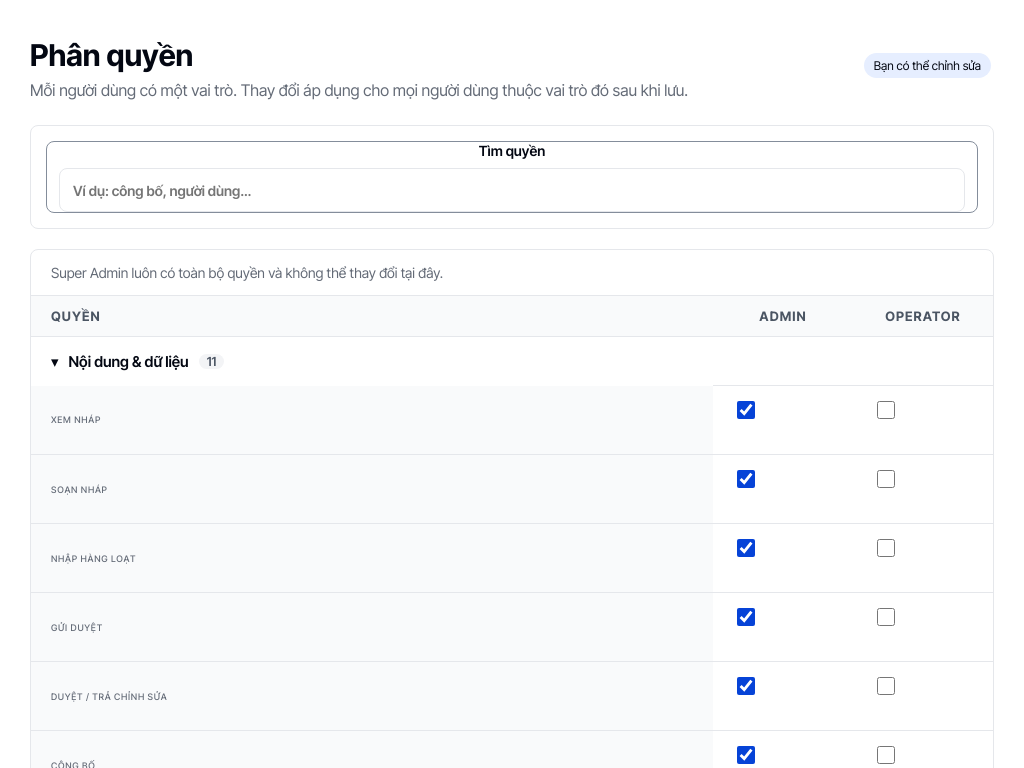
Test: permission matrix › shows business roles only, hides internal codes and offers save only after a change
Expected: the button "Lưu thay đổi" is not shown
Click the checkbox named "OPERATOR P01": (886, 410) [876, 401, 894, 419]
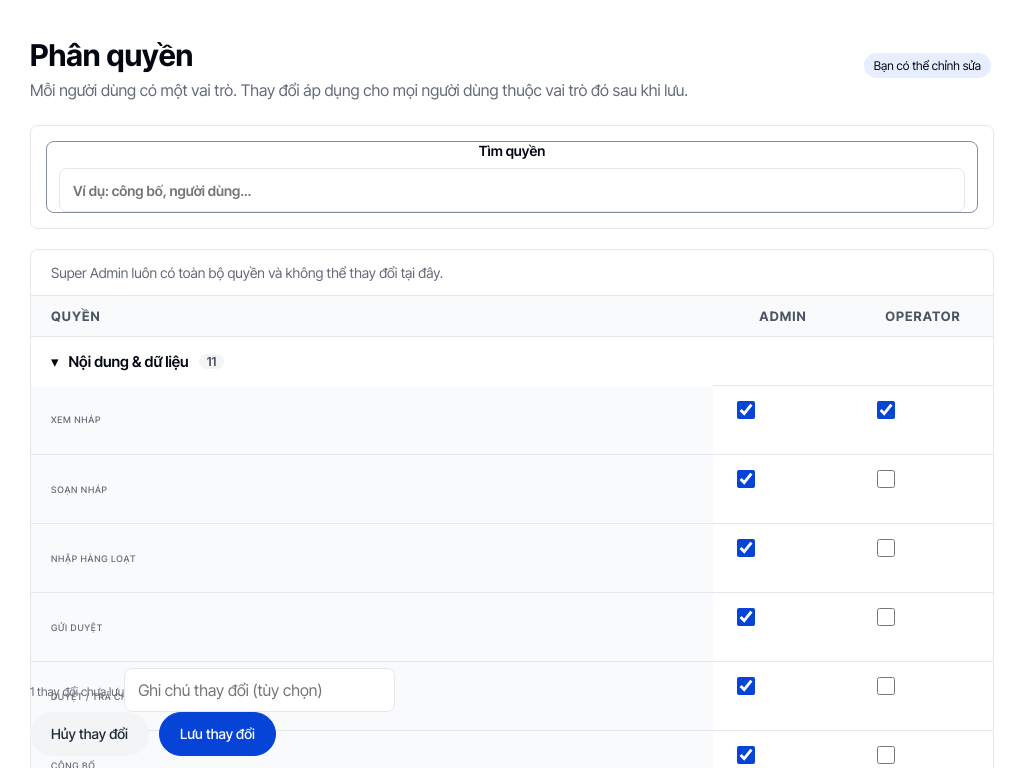
Expected: the button "Lưu thay đổi" is shown, [159, 712, 276, 756]
Click the button "▾ Nội dung & dữ liệu 11": (129, 361) [31, 337, 993, 385]
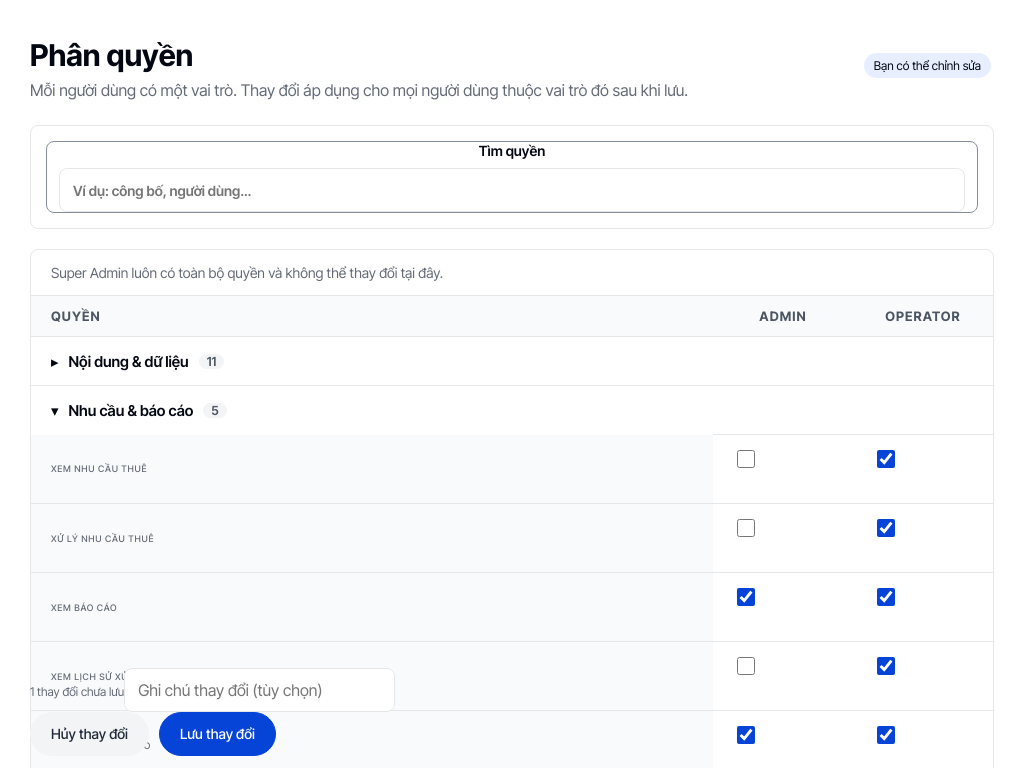
Expected: the column heading labelled "OPERATOR P01" is gone
